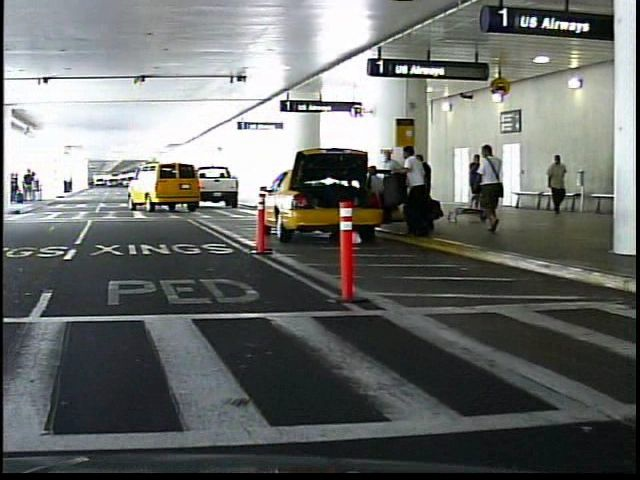person: (470, 142, 506, 235), (538, 151, 565, 215)
